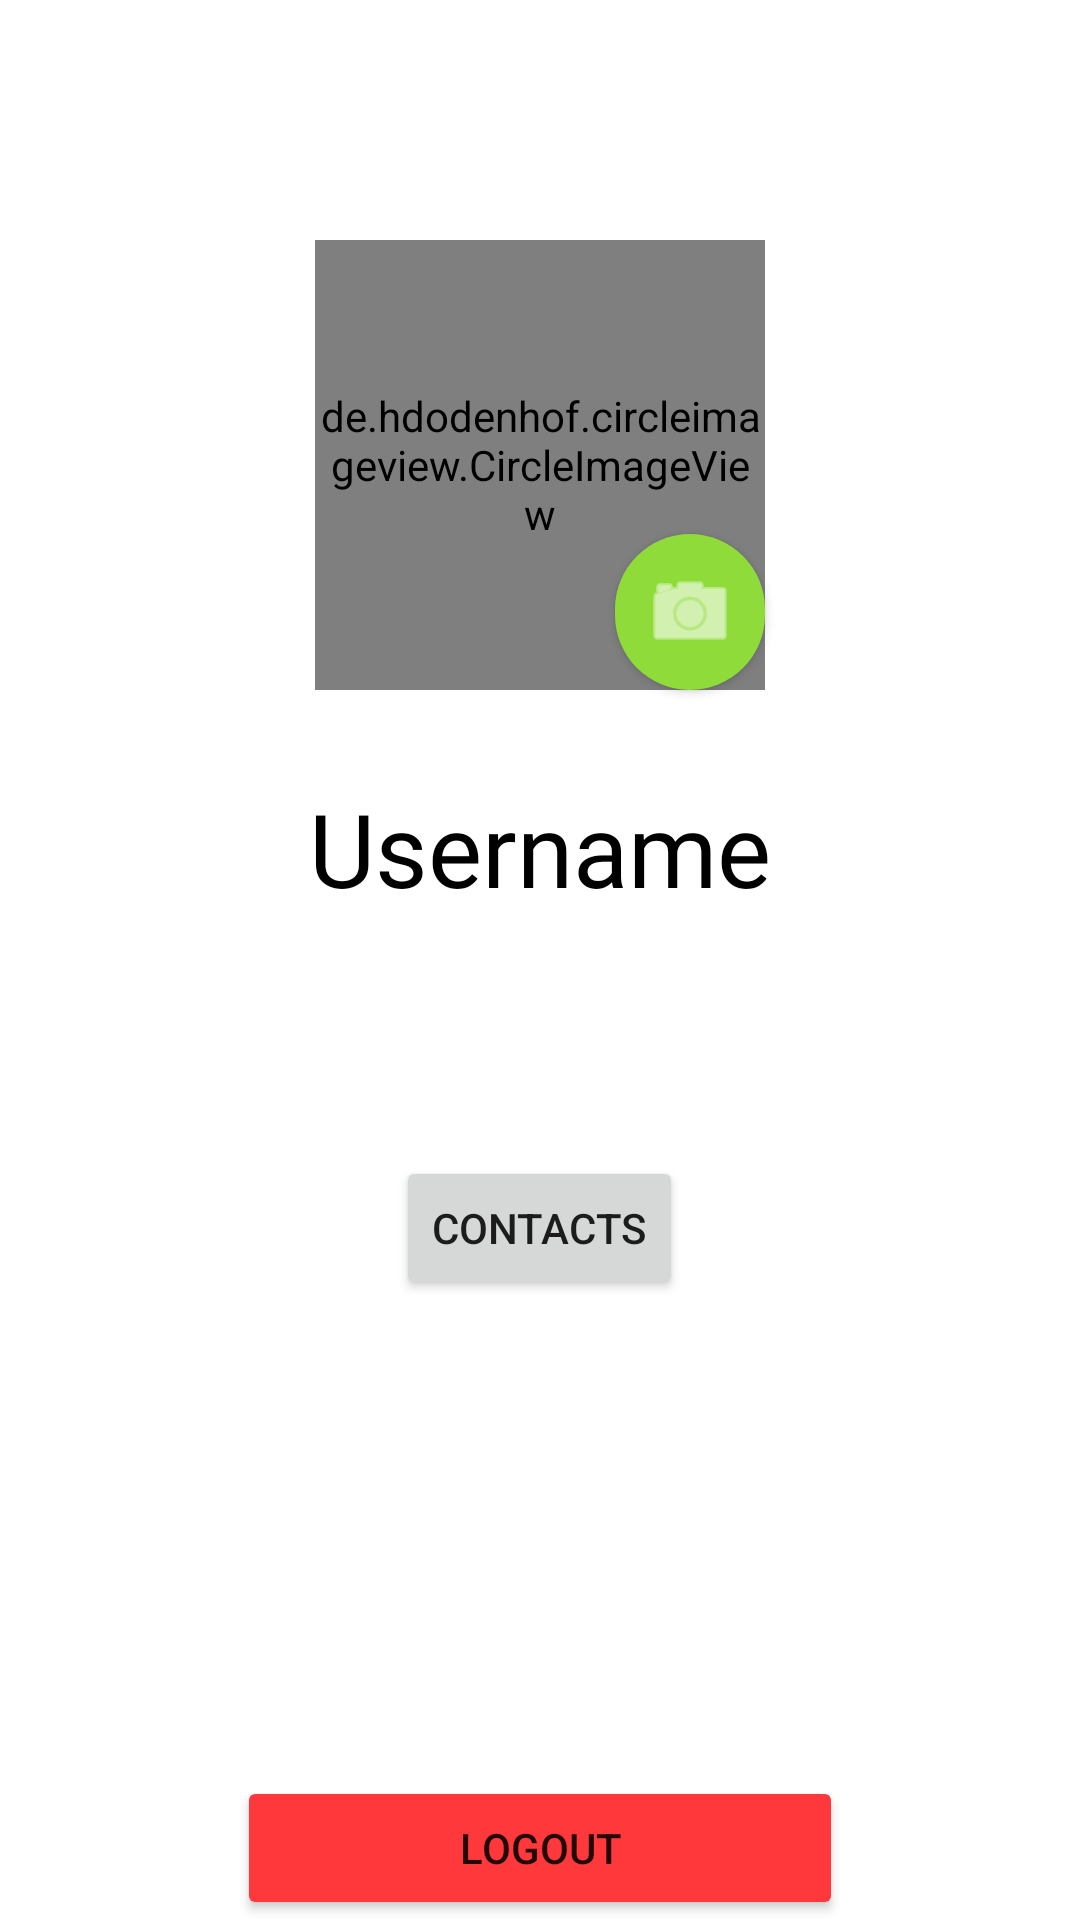

Screen size 1080x1920. Icon name, then its center in pixels as (x,y):
camera: (690,612)
